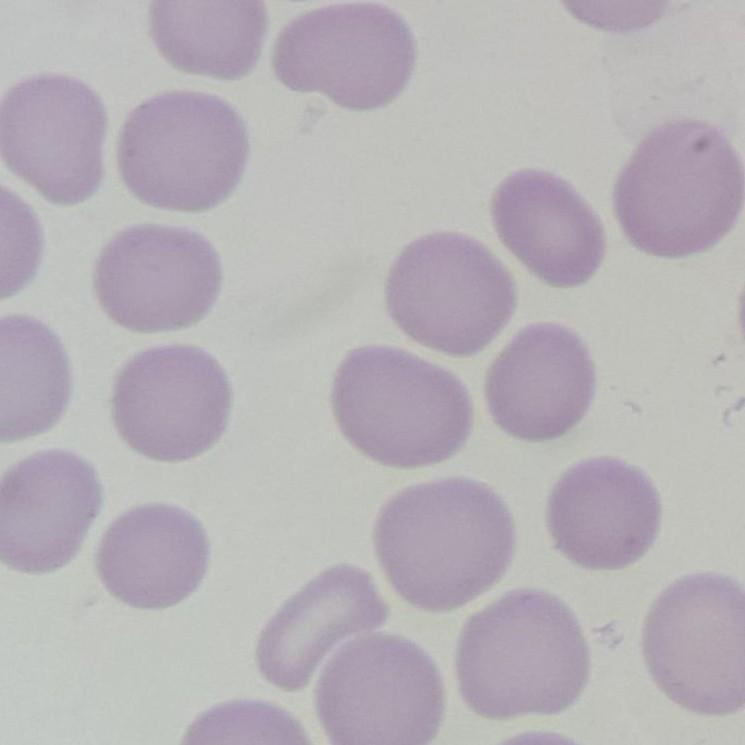Uninfected: (374, 478, 513, 610), (456, 588, 590, 720), (331, 345, 472, 470), (612, 122, 744, 255), (257, 564, 388, 690), (385, 233, 518, 356), (119, 93, 247, 212), (275, 4, 416, 109), (313, 633, 443, 745), (641, 574, 745, 713), (1, 74, 110, 204), (493, 169, 607, 292), (112, 346, 231, 463), (96, 224, 222, 332), (486, 323, 597, 442), (548, 457, 662, 572), (1, 450, 100, 574), (98, 505, 210, 609), (150, 0, 268, 80), (1, 317, 73, 441)
